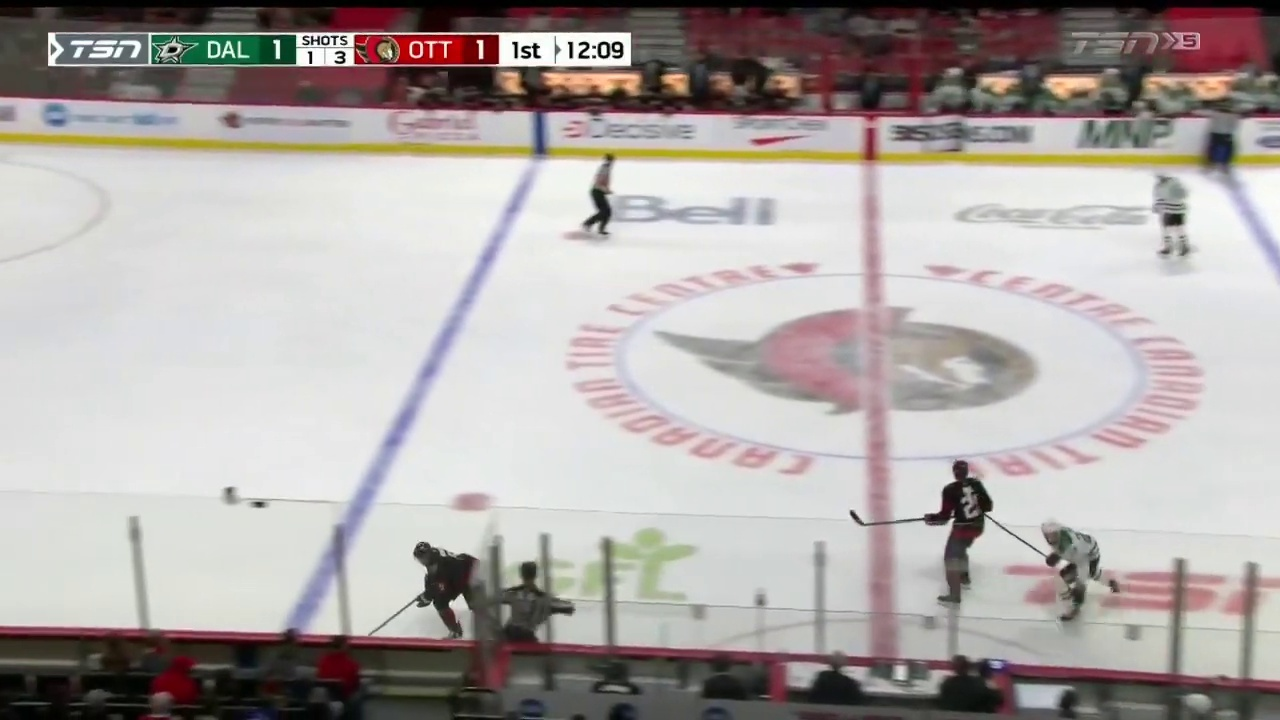hockeyplayer: (925, 460, 994, 609), (412, 541, 501, 641), (1042, 520, 1121, 625), (1152, 170, 1190, 257)
referee: (474, 562, 575, 642), (1190, 101, 1237, 174), (581, 154, 615, 236)
